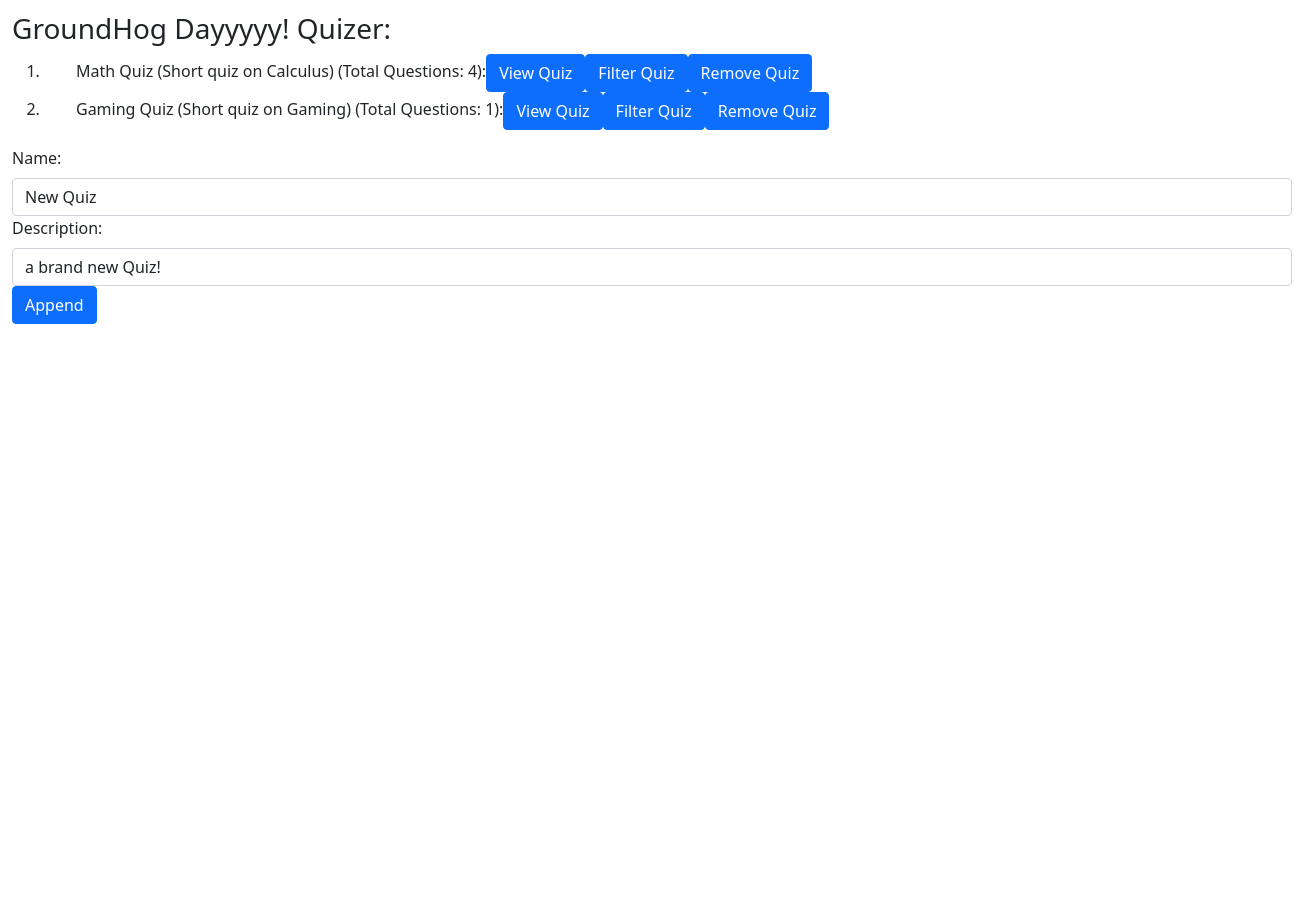
Test: Questions Tests › You can remove the question in array.
Click the button with test id "view-quiz-button" in the row of "Short quiz on Calculus" at [536, 73], box x1=486 y1=54 x2=585 y2=92
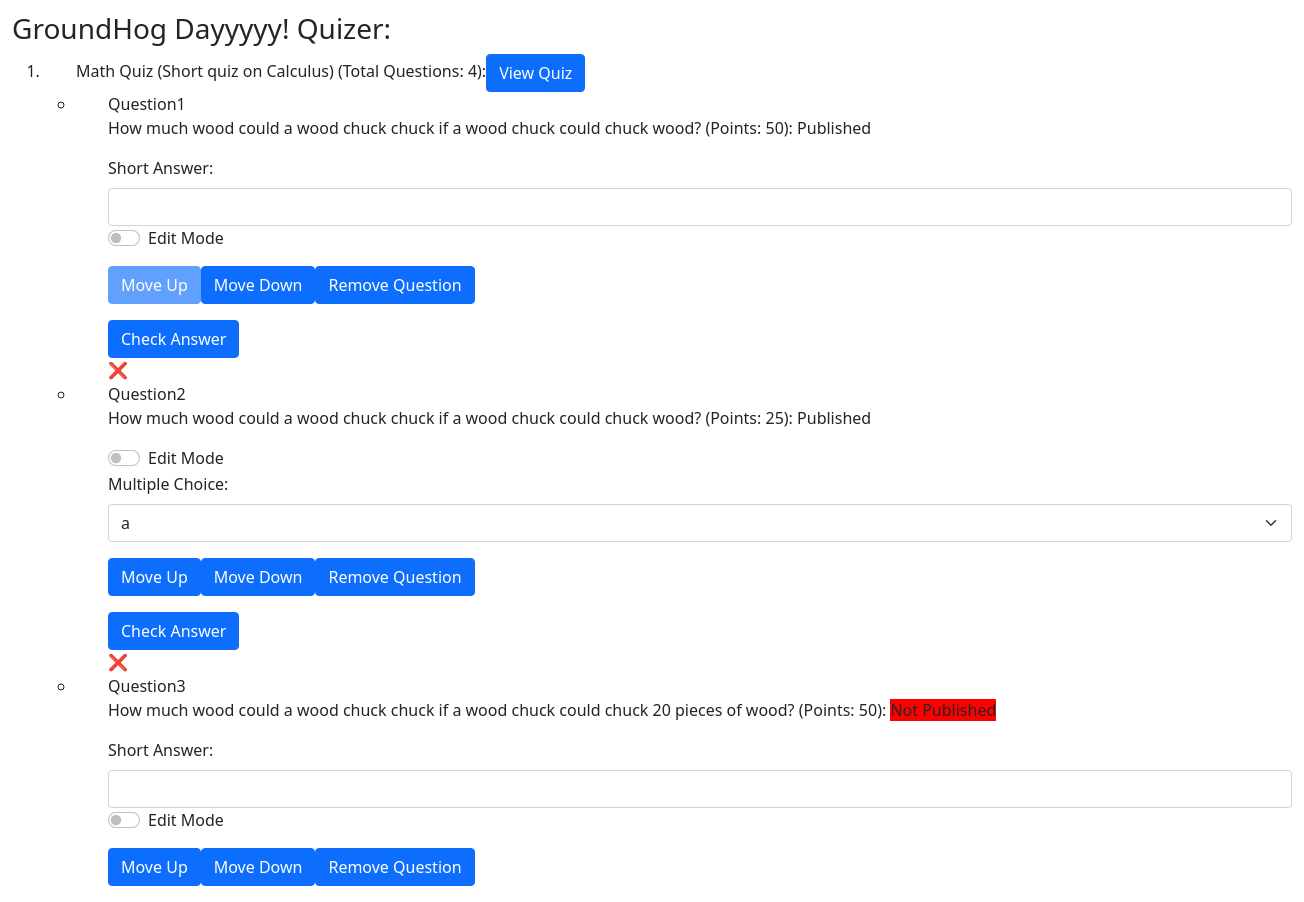
Click the button with test id "remove-question-button" below "Question1" at [395, 285], box x1=315 y1=266 x2=475 y2=304
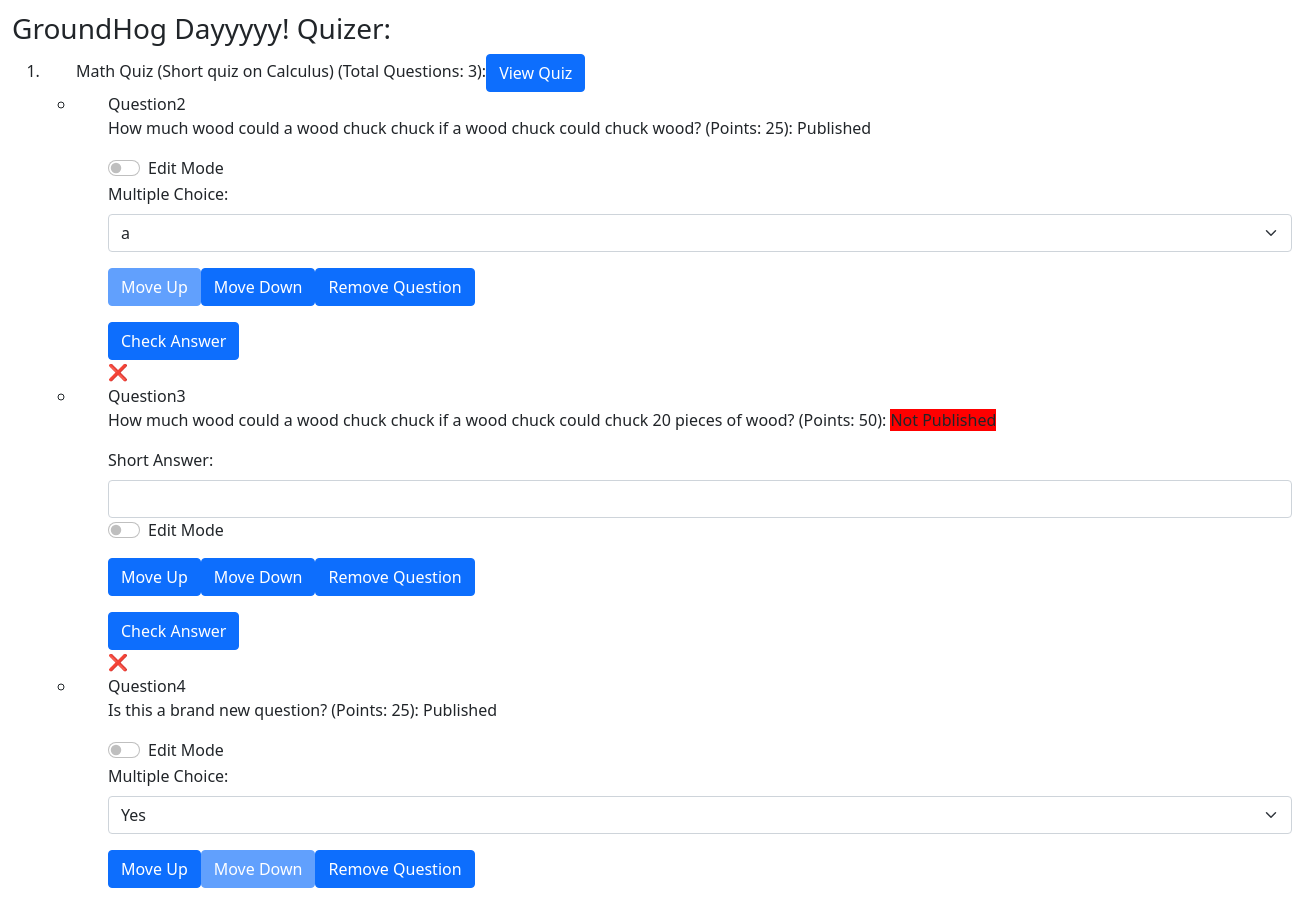
Expected: the text "Question1" is gone
